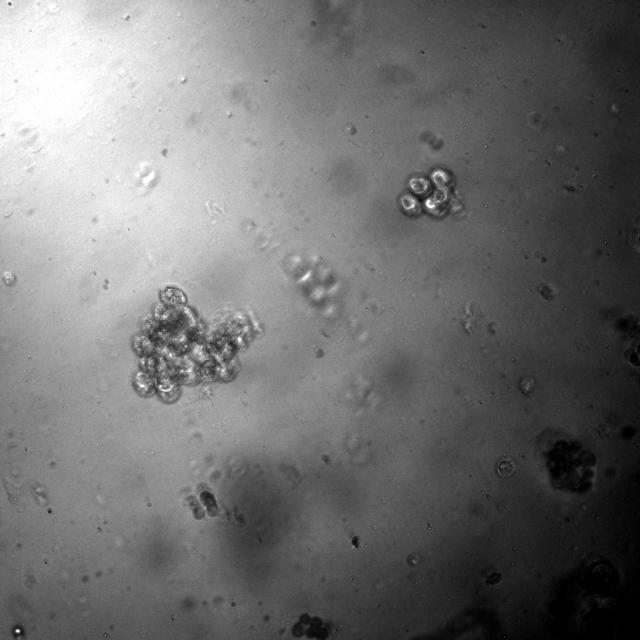organoid: (132, 285, 259, 402), (282, 254, 345, 319), (396, 165, 465, 219), (544, 439, 596, 492), (184, 483, 244, 525), (291, 613, 331, 639), (494, 455, 517, 478), (538, 282, 558, 301), (624, 342, 639, 367), (518, 376, 536, 395), (485, 571, 502, 585), (406, 552, 421, 567), (2, 271, 16, 286), (351, 535, 361, 549), (604, 343, 609, 348)
